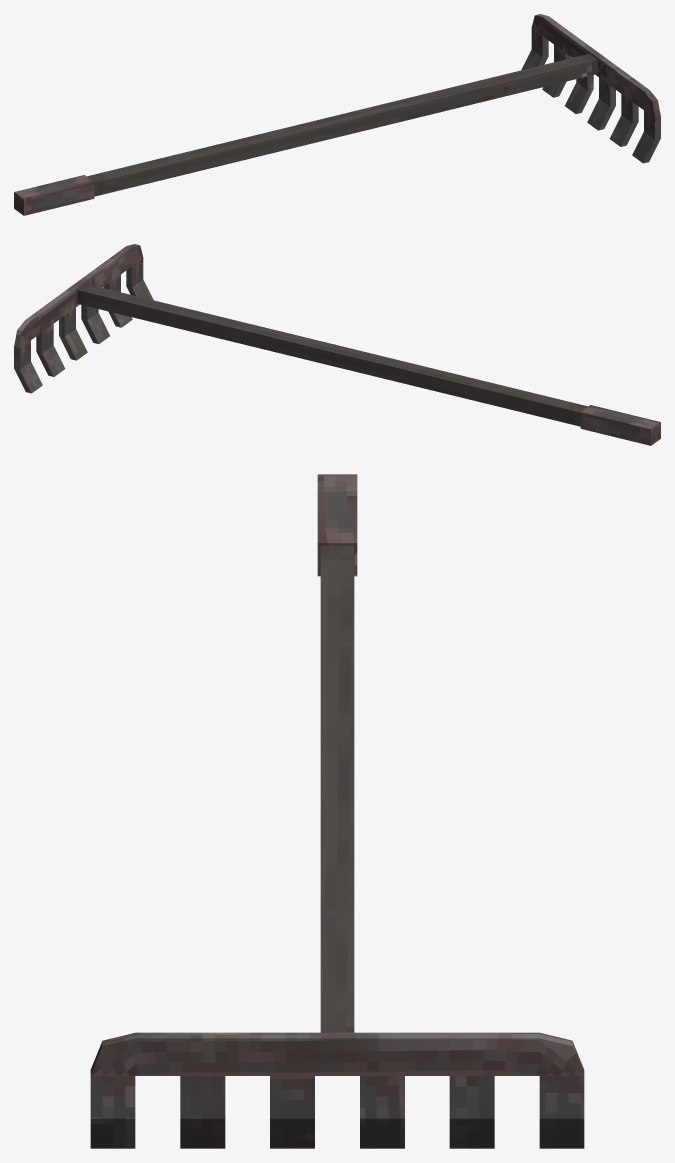
File: rake.fbx
The picture shows the model from 3 angles, top to bottom: view 1: azimuth 30°, elevation 25°; view 2: azimuth 150°, elevation 25°; view 3: azimuth 270°, elevation 25°; orthographic projection. The views are drawn at different scales.
Visible parts, largest first — view 1: rake; view 2: rake; view 3: rake.
Part boxes in pixels (left/top/right/bottom): rake: left=14, top=14, right=660, bottom=215; rake: left=14, top=244, right=660, bottom=445; rake: left=90, top=474, right=584, bottom=1148.
Bounding box in the file's own units: 3.46 × 0.3476 × 1.28.
